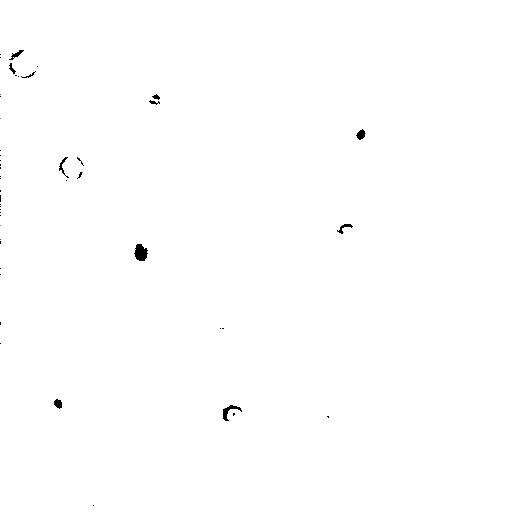micro-algae: (118, 226, 163, 273), (341, 117, 382, 151), (40, 386, 75, 424), (486, 143, 511, 190), (5, 45, 39, 78), (58, 153, 85, 183), (333, 219, 363, 244), (223, 403, 243, 423)
